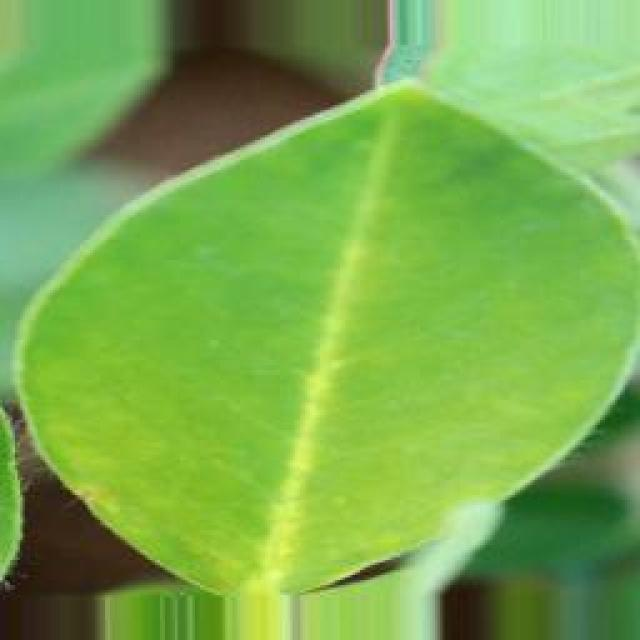Yellow_and_black_sigatoka: (22, 77, 640, 594)
